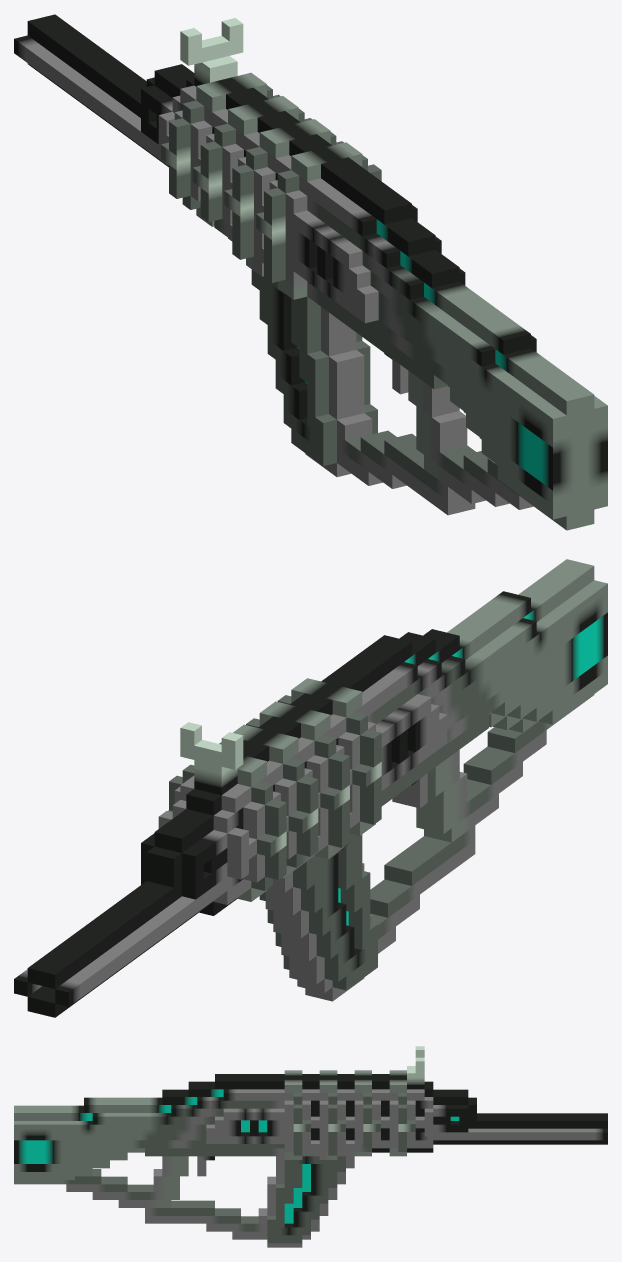
Rendered from Colortest1-6-PhaseRifle.fbx.
3 renders of one model, top to bottom at view 1: azimuth 30°, elevation 25°; view 2: azimuth 150°, elevation 25°; view 3: azimuth 270°, elevation 25°, orthographic. The views are drawn at different scales.
Parts seen in each view (by area): view 1: PhaseRifle; view 2: PhaseRifle; view 3: PhaseRifle.
Part boxes in pixels (<box>): PhaseRifle: <box>14,14,607,530</box>; PhaseRifle: <box>14,559,607,1017</box>; PhaseRifle: <box>14,1046,607,1247</box>.
Bounding box in the file's own units: 8 × 24 × 68.
